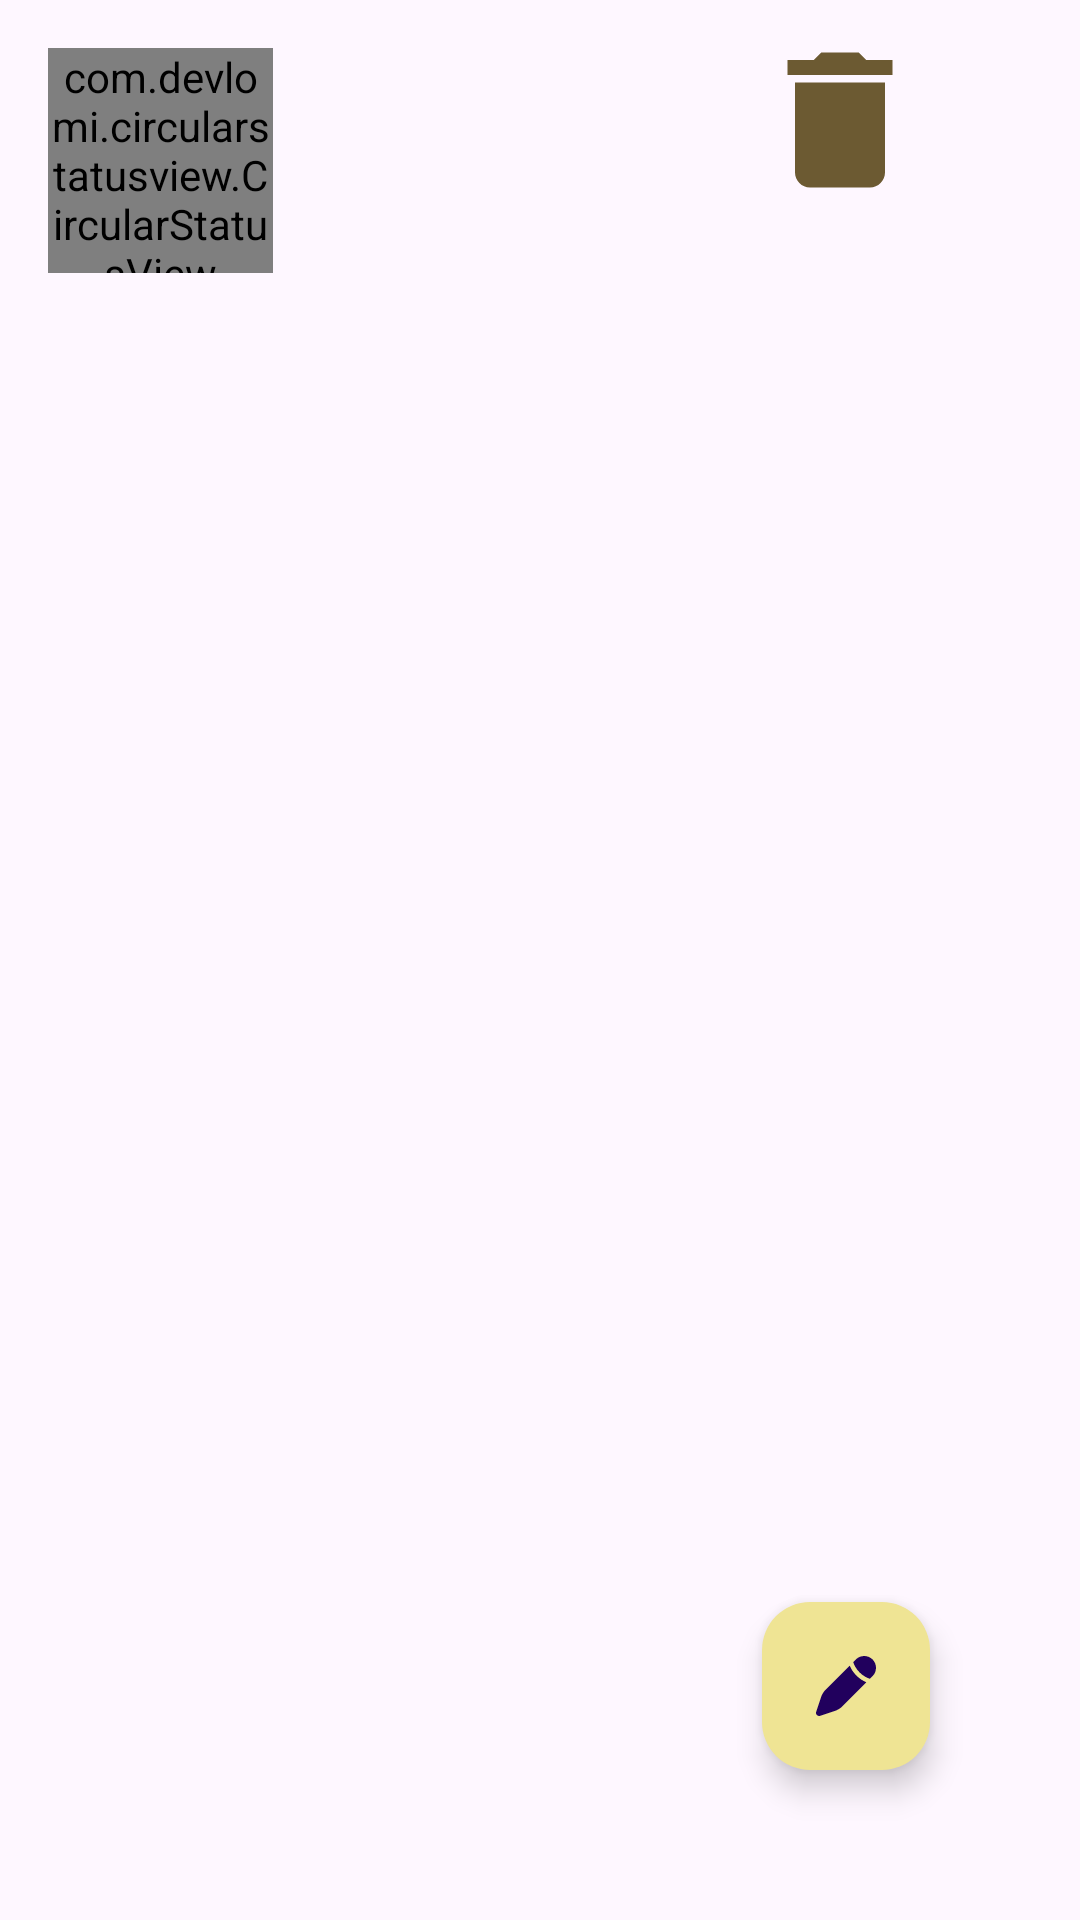

Icons on this 1080px x 1920px Android screen, each with its box as (x1, y1, x2, y2):
delete: (787, 52, 893, 188)
pen: (762, 1602, 930, 1770)
